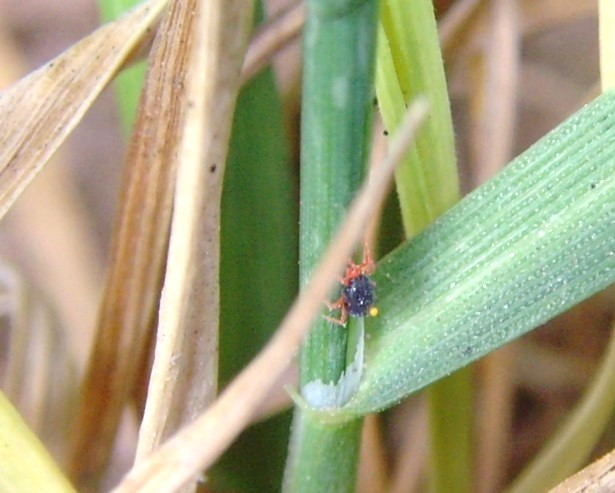Wheat Red Spider: (316, 239, 385, 331)
